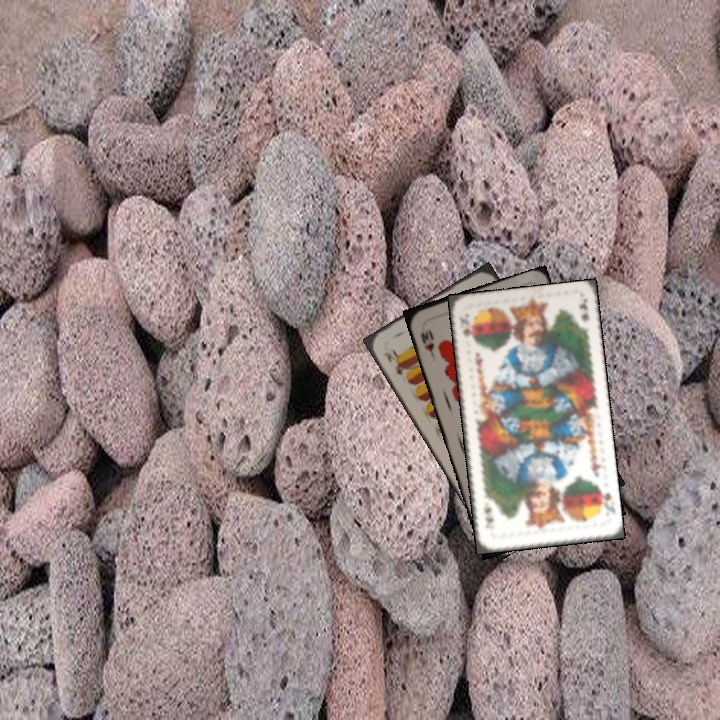E10: (379, 346, 407, 378)
H10: (416, 325, 437, 360)
SK: (594, 483, 617, 515), (455, 317, 476, 344)
